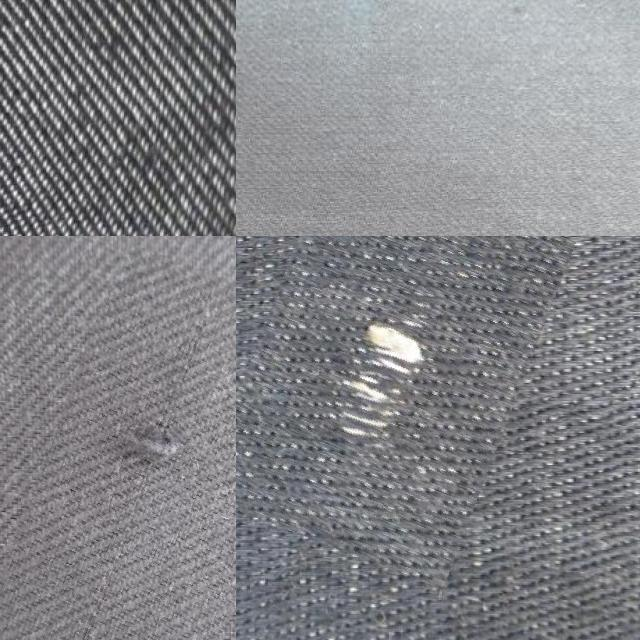stains: (236, 236, 545, 572), (2, 254, 236, 640)
